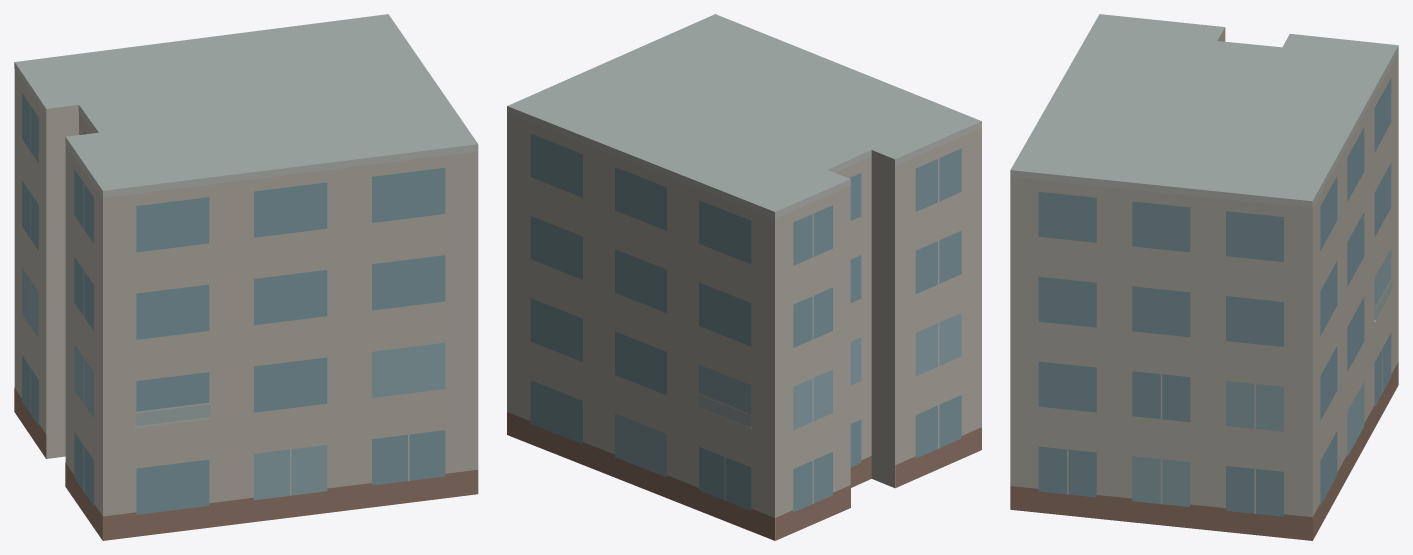
File: survey-upis-32874808.glb
3 renders of one model, left to right at view 1: azimuth 30°, elevation 25°; view 2: azimuth 150°, elevation 25°; view 3: azimuth 270°, elevation 25°, orthographic. The views are drawn at different scales.
Visible parts, largest first — view 1: survey-upis-32874808.tmp; view 2: survey-upis-32874808.tmp; view 3: survey-upis-32874808.tmp.
Boxes of the visible parts, x1,y1,x2,y2 form: survey-upis-32874808.tmp: (14,14,478,540); survey-upis-32874808.tmp: (507,14,981,540); survey-upis-32874808.tmp: (1010,14,1398,540).
Bounding box in the file's own units: 14.2 × 12 × 12.44.
